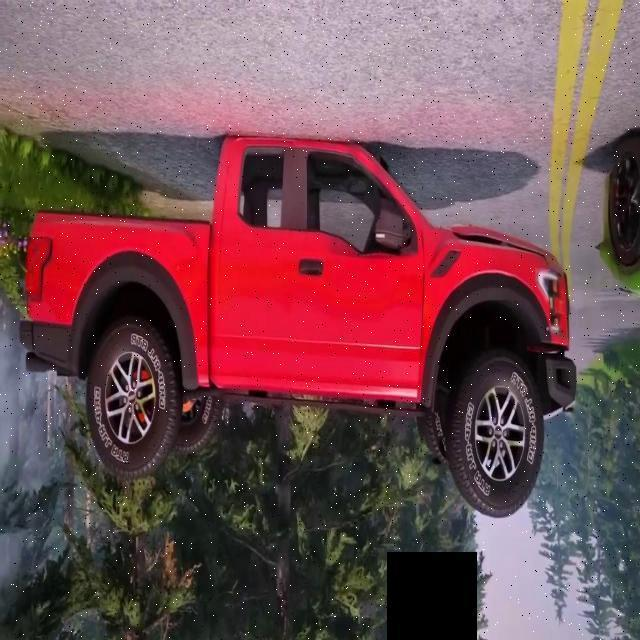vehicle: (0, 82, 577, 502)
